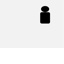human: (38, 4, 51, 24)
